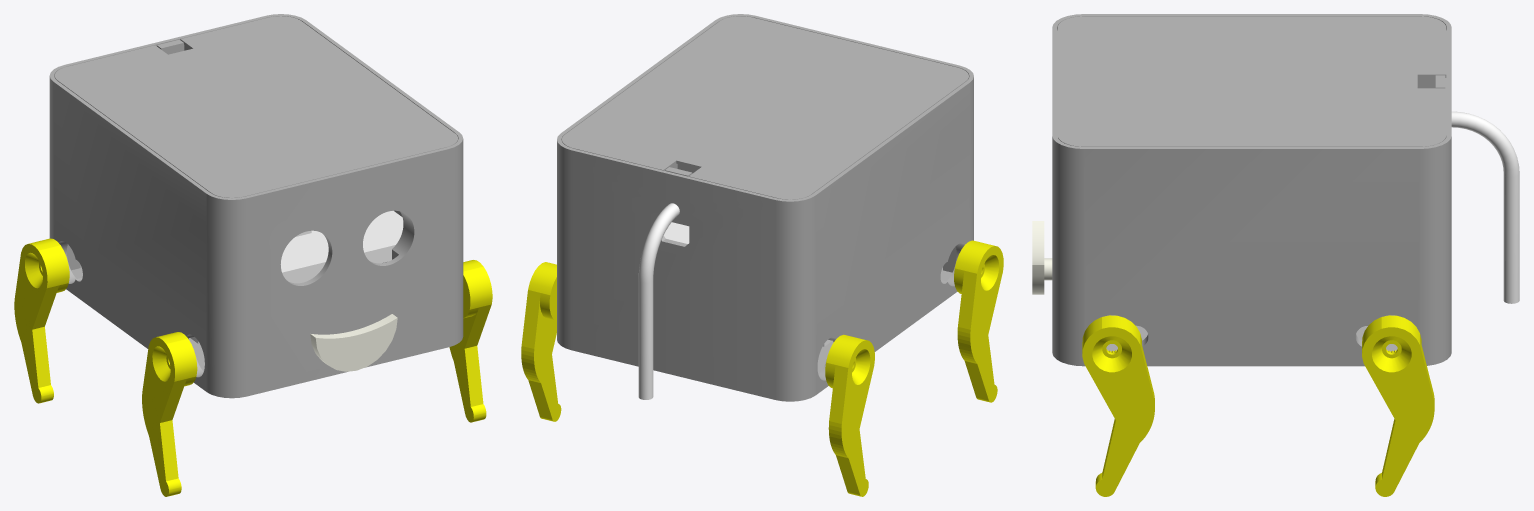
The model's file is net-Kedi.glb.
3 renders of one model, left to right at view 1: azimuth 30°, elevation 25°; view 2: azimuth 150°, elevation 25°; view 3: azimuth 270°, elevation 25°, orthographic. The views are drawn at different scales.
Visible parts, largest first — view 1: e-Robot; view 2: e-Robot; view 3: e-Robot.
Boxes of the visible parts, x1,y1,x2,y2 form: e-Robot: (14,14,492,496); e-Robot: (521,14,1003,496); e-Robot: (1032,14,1519,496).
Size of the model in its own units: 101 by 91.31 by 122.
